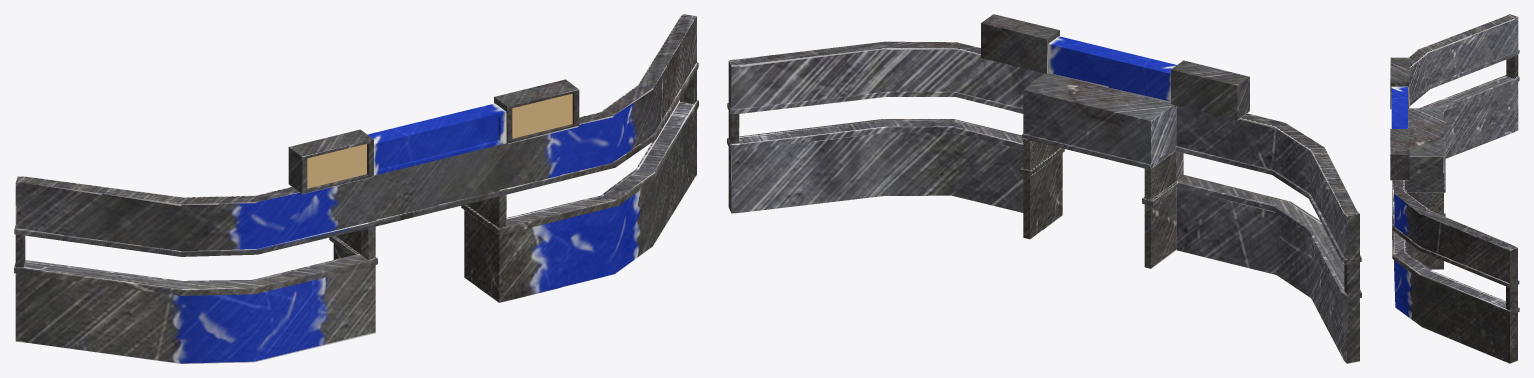
Rendered from Barricade.FBX.
The picture shows the model from 3 angles, left to right: view 1: azimuth 30°, elevation 25°; view 2: azimuth 150°, elevation 25°; view 3: azimuth 270°, elevation 25°; orthographic projection. The views are drawn at different scales.
Visible parts, largest first — view 1: Barrier; view 2: Barrier; view 3: Barrier.
Part boxes in pixels (box(x1,y1,x2,y2)): Barrier: box(14, 14, 698, 363); Barrier: box(727, 14, 1361, 363); Barrier: box(1390, 14, 1519, 363).
Size of the model in its own units: 13.49 by 3.7 by 3.1.
Materials: 2 (1 with a texture image).
